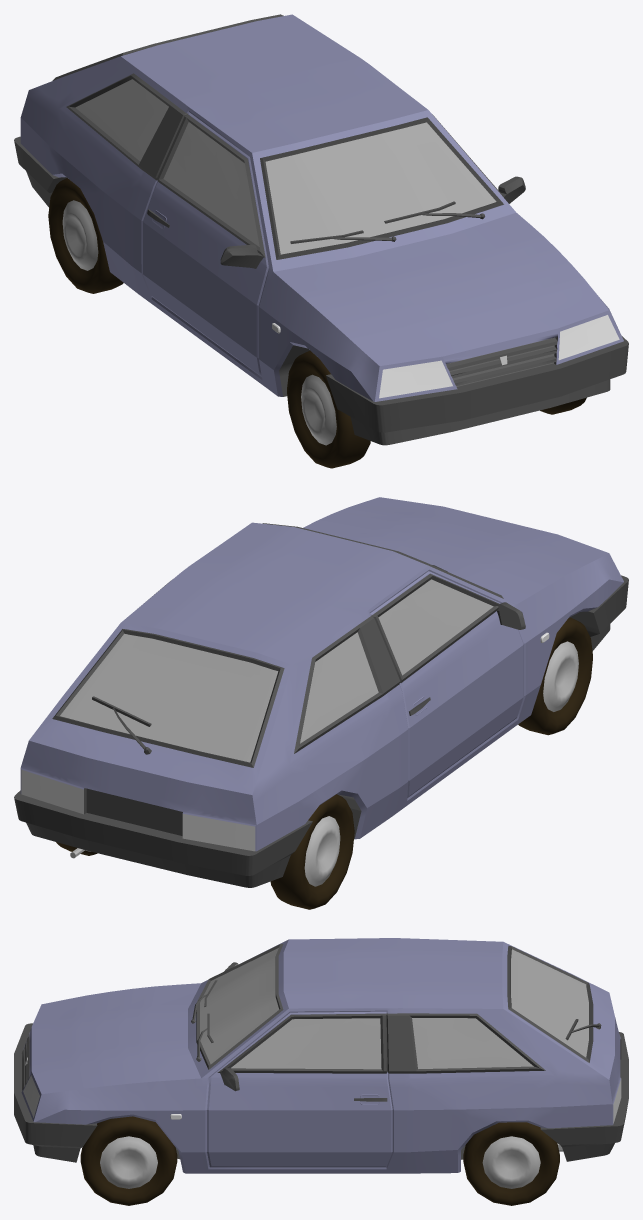
File: Sputnik_HighPoly.fbx
The picture shows the model from 3 angles, top to bottom: view 1: azimuth 30°, elevation 25°; view 2: azimuth 150°, elevation 25°; view 3: azimuth 270°, elevation 25°; orthographic projection. The views are drawn at different scales.
Visible parts, largest first — view 1: Body, Wheel_FR, Wheel_RR; view 2: Body, Wheel_RR, Wheel_FR; view 3: Body, Wheel_FL, Wheel_RL.
Part boxes in pixels (left/top/right/bottom): Body: left=14, top=14, right=628, bottom=445; Wheel_FR: left=287, top=350, right=370, bottom=468; Wheel_RR: left=48, top=178, right=123, bottom=293; Body: left=14, top=497, right=628, bottom=887; Wheel_RR: left=270, top=794, right=354, bottom=909; Wheel_FR: left=518, top=617, right=592, bottom=735; Body: left=14, top=938, right=628, bottom=1173; Wheel_FL: left=80, top=1116, right=177, bottom=1205; Wheel_RL: left=463, top=1122, right=559, bottom=1205.
Size of the model in its own units: 187 by 138 by 408.
